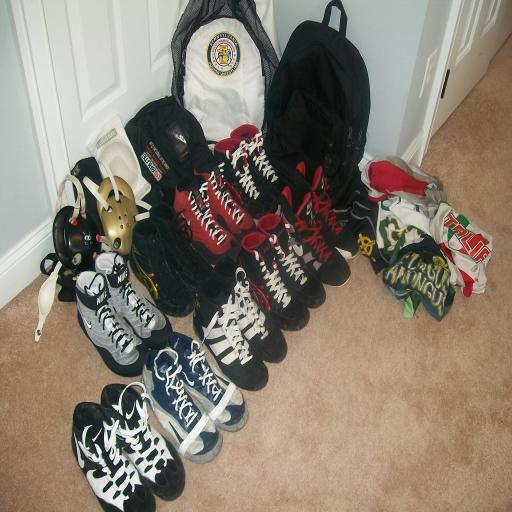shoe: (101, 382, 185, 500), (142, 348, 222, 464), (72, 402, 156, 512), (192, 274, 268, 391), (167, 332, 248, 431), (214, 259, 288, 363), (75, 270, 147, 376), (95, 251, 173, 348), (238, 230, 310, 330), (280, 186, 350, 287), (258, 213, 326, 308), (130, 216, 194, 316), (294, 162, 359, 259), (173, 174, 239, 264), (150, 202, 212, 292), (213, 137, 277, 219), (194, 162, 256, 236), (230, 124, 282, 194)
